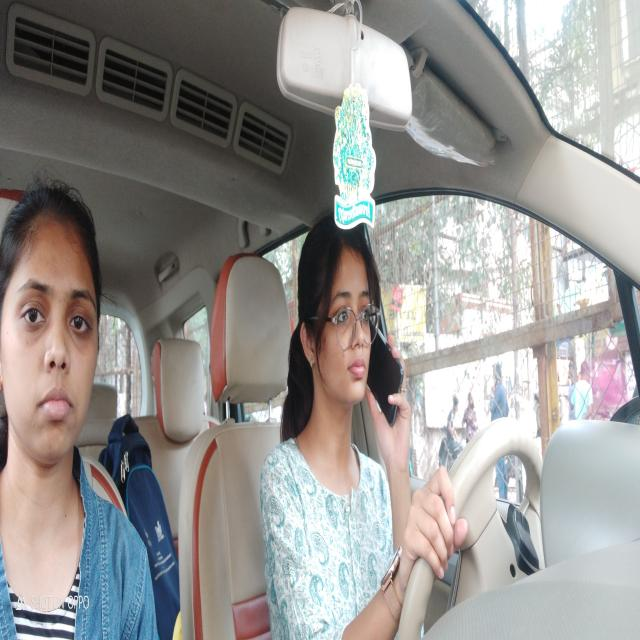mobile: (366, 321, 406, 435)
person: (0, 178, 108, 472), (296, 216, 382, 412)
